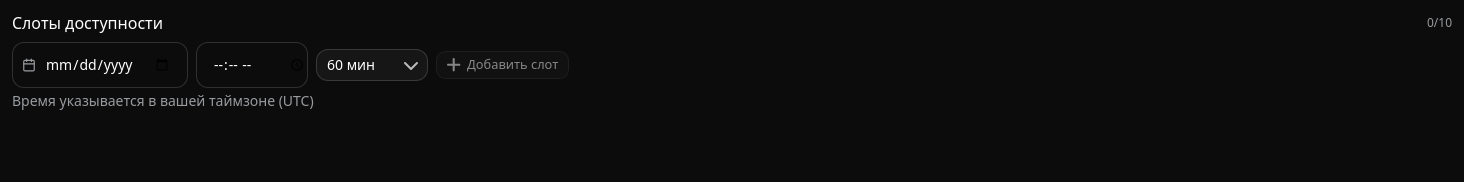
Test: SlotPickerField › должен добавлять слот при заполнении даты и времени
The image size is (1464, 182).
Type "2999-01-01" into the date field named "Дата" at (100, 65), box [12,42,188,88]
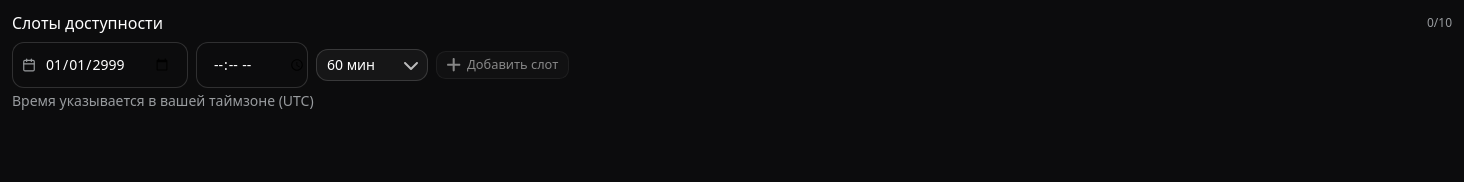
Type "10:00" into the time field named "Время начала" at (252, 65), box [196,42,308,88]
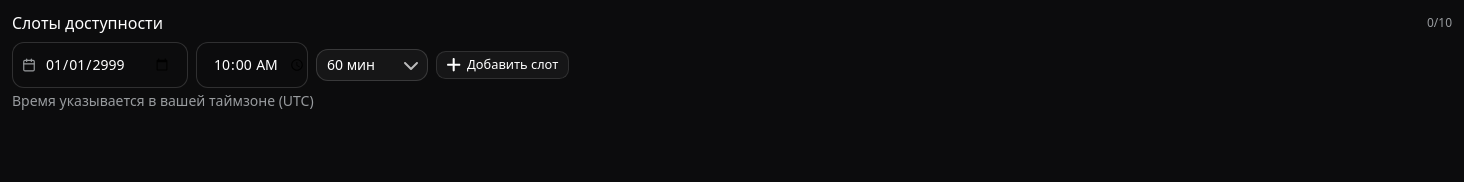
Click the button "Добавить слот" at (503, 65), box [436,51,569,79]
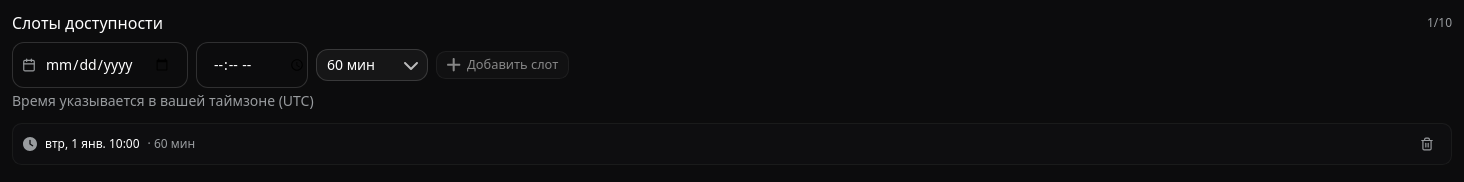
Check: the text "10:00" is shown, box [45,135,140,152]
Check: the text "· 60 мин" is shown, box [148,136,195,152]
